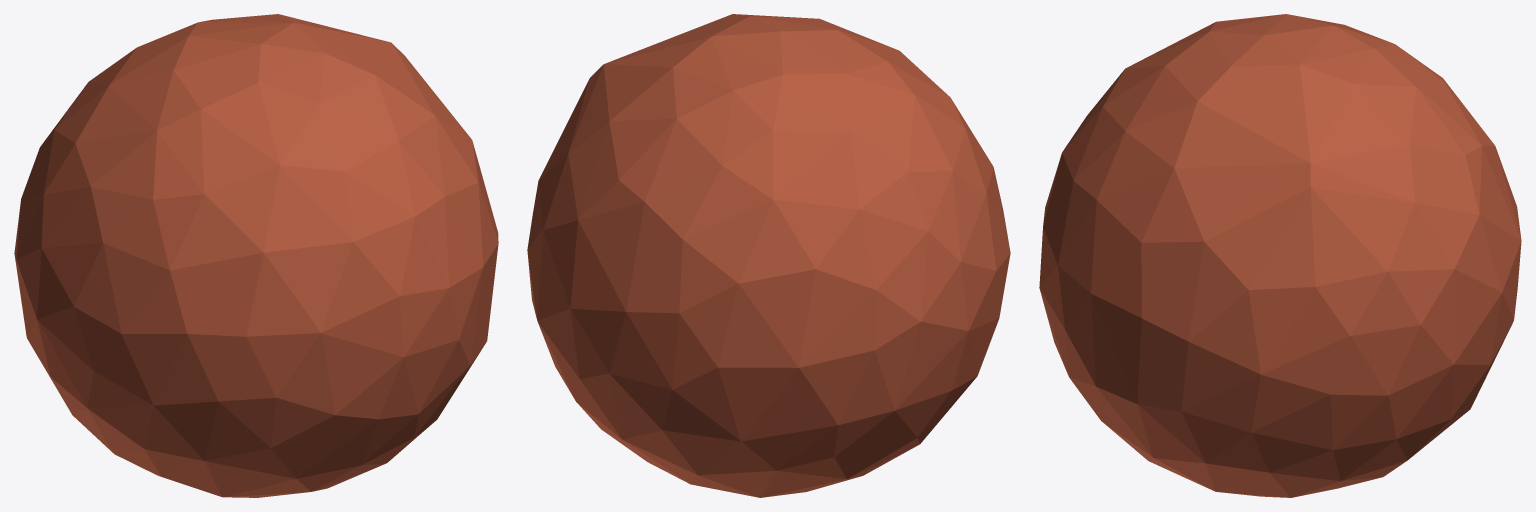
File: corucsant_simple.dae
The picture shows the model from 3 angles, left to right: view 1: azimuth 30°, elevation 25°; view 2: azimuth 150°, elevation 25°; view 3: azimuth 270°, elevation 25°; orthographic projection.
Visible parts, largest first — view 1: kamino; view 2: kamino; view 3: kamino.
Part boxes in pixels (left/top/right/bottom): kamino: left=14, top=14, right=498, bottom=497; kamino: left=527, top=14, right=1010, bottom=497; kamino: left=1039, top=14, right=1521, bottom=497.
Bounding box in the file's own units: 6.04 × 5.99 × 6.03.
